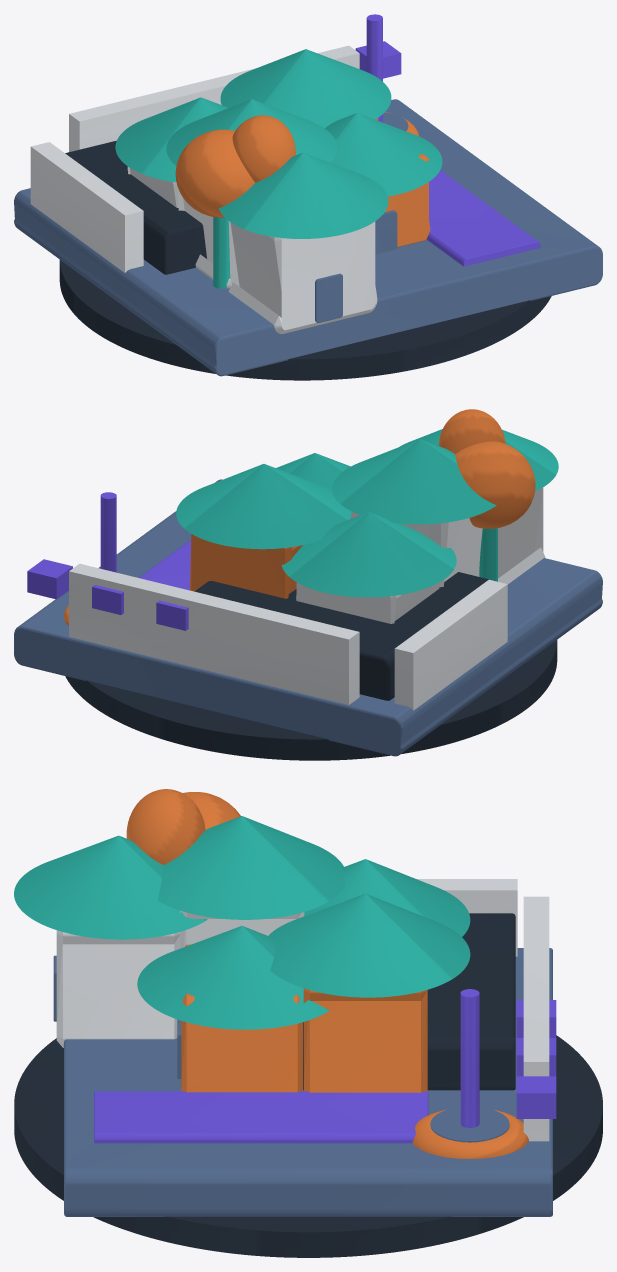
File: 0374_欧洲文明图鉴_中世纪城堡.glb
3 views of the same model, one above another, from view 1: azimuth 30°, elevation 25°; view 2: azimuth 150°, elevation 25°; view 3: azimuth 270°, elevation 25° (orthographic). The views are drawn at different scales.
Visible parts, largest first — view 1: card_0374; view 2: card_0374; view 3: card_0374.
Boxes of the visible parts, x1,y1,x2,y2 form: card_0374: (14, 14, 602, 380); card_0374: (14, 409, 602, 760); card_0374: (14, 789, 602, 1257).
Size of the model in its own units: 1.99 by 1 by 1.94.
